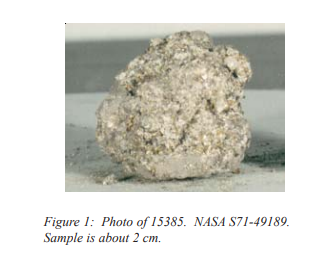Basalt: (97, 35, 267, 195)
